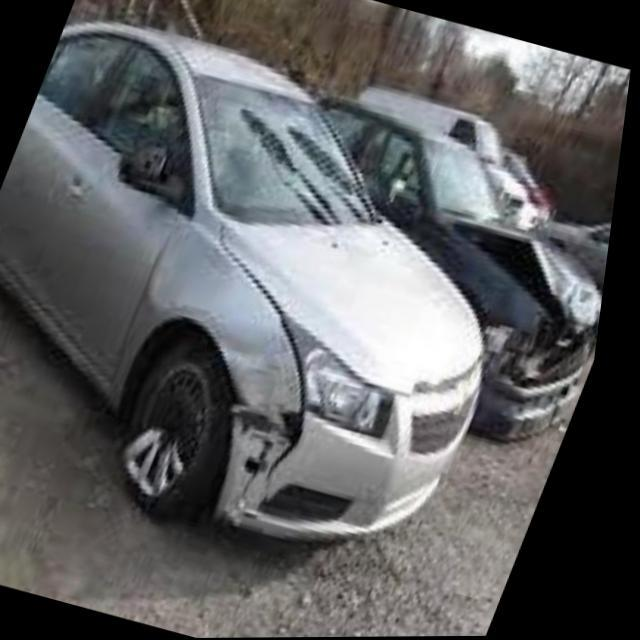dislocated part: (150, 238, 328, 538)
